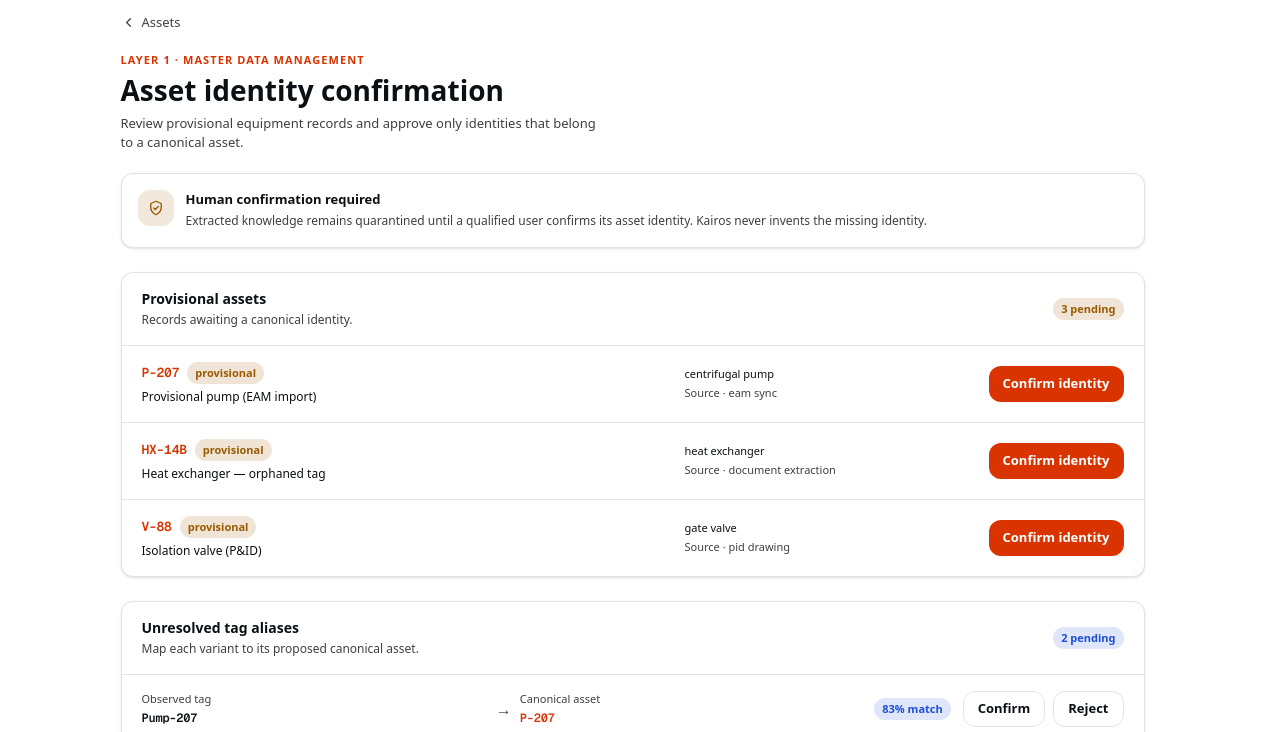
Test: BootstrapPage › keeps the existing confirmation contract and removes a confirmed record
Expected: the text "Provisional pump (EAM import)" is shown, [142,388,316,404]
Click the button "Confirm identity" in the row of "eam sync" at (1056, 384), box [988,366,1124,402]
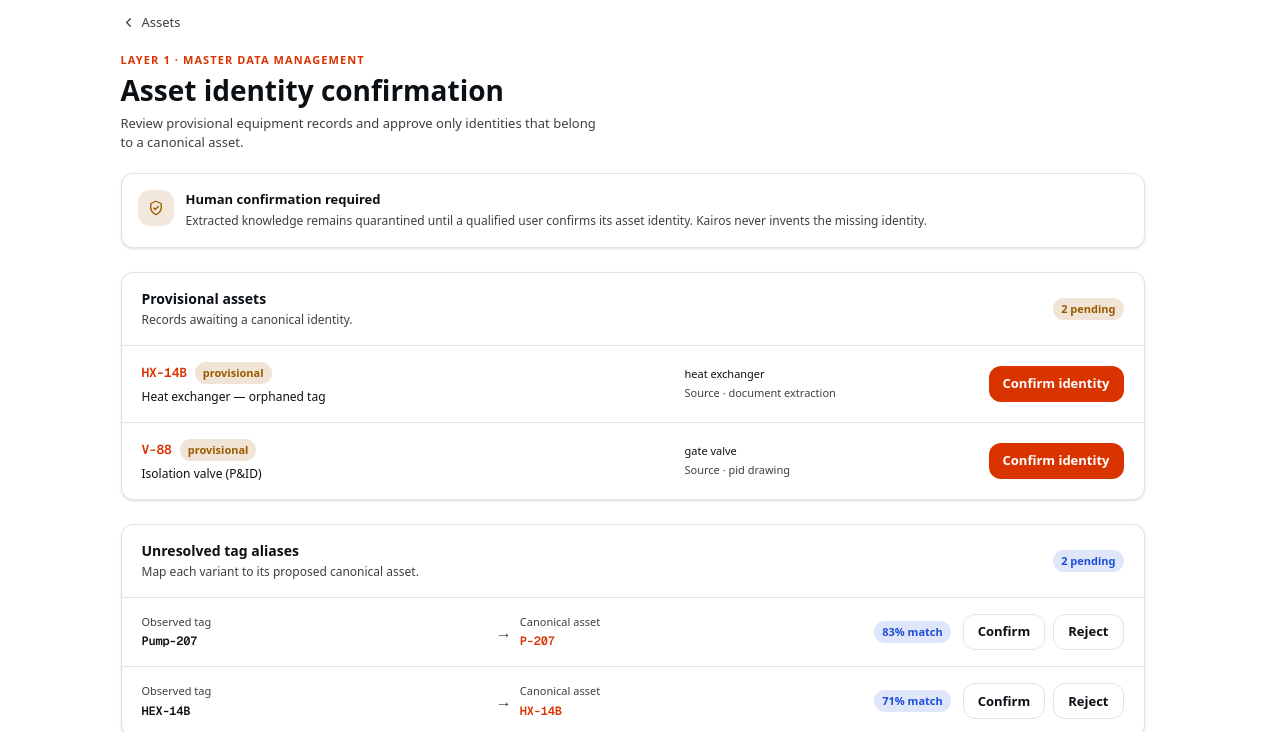
Expected: the element with test id "provisional-P-207" is gone
